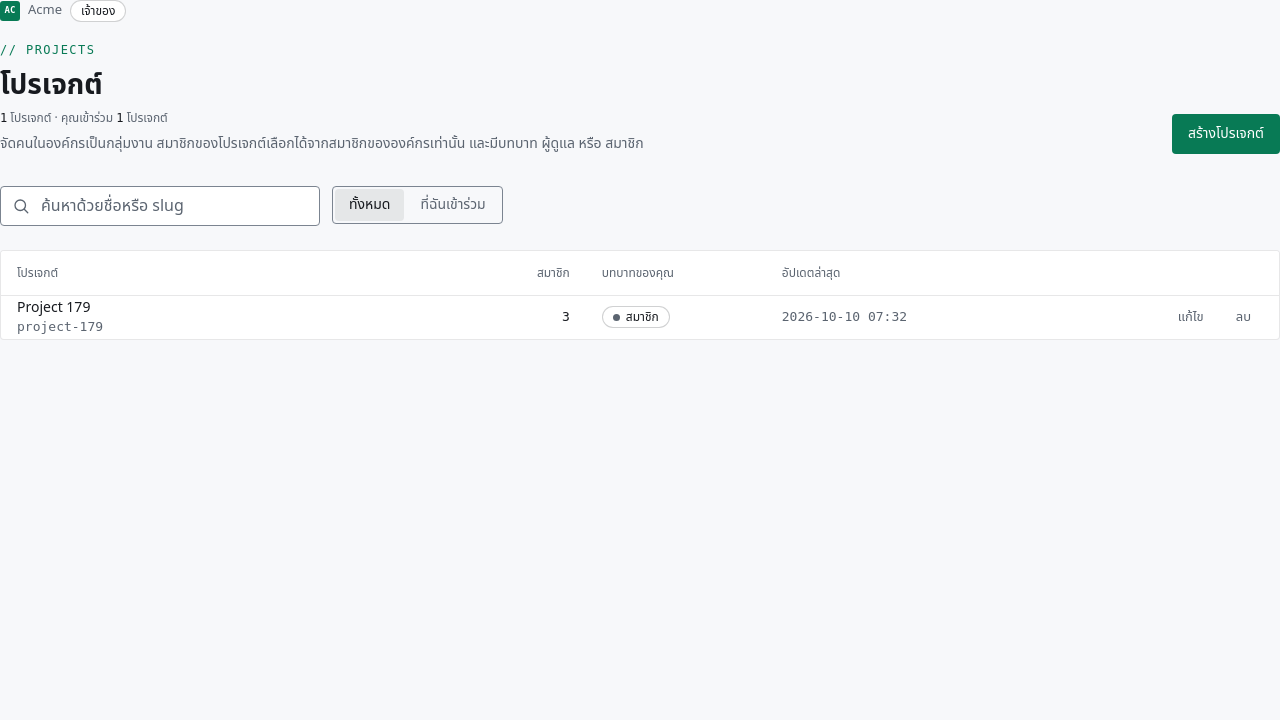
Test: create dialog › closes the dialog and reloads the list on PERMISSION_DENIED
The image size is (1280, 720).
Click the button with test id "projects-create" at (1226, 134), box x1=1172 y1=114 x2=1279 y2=154
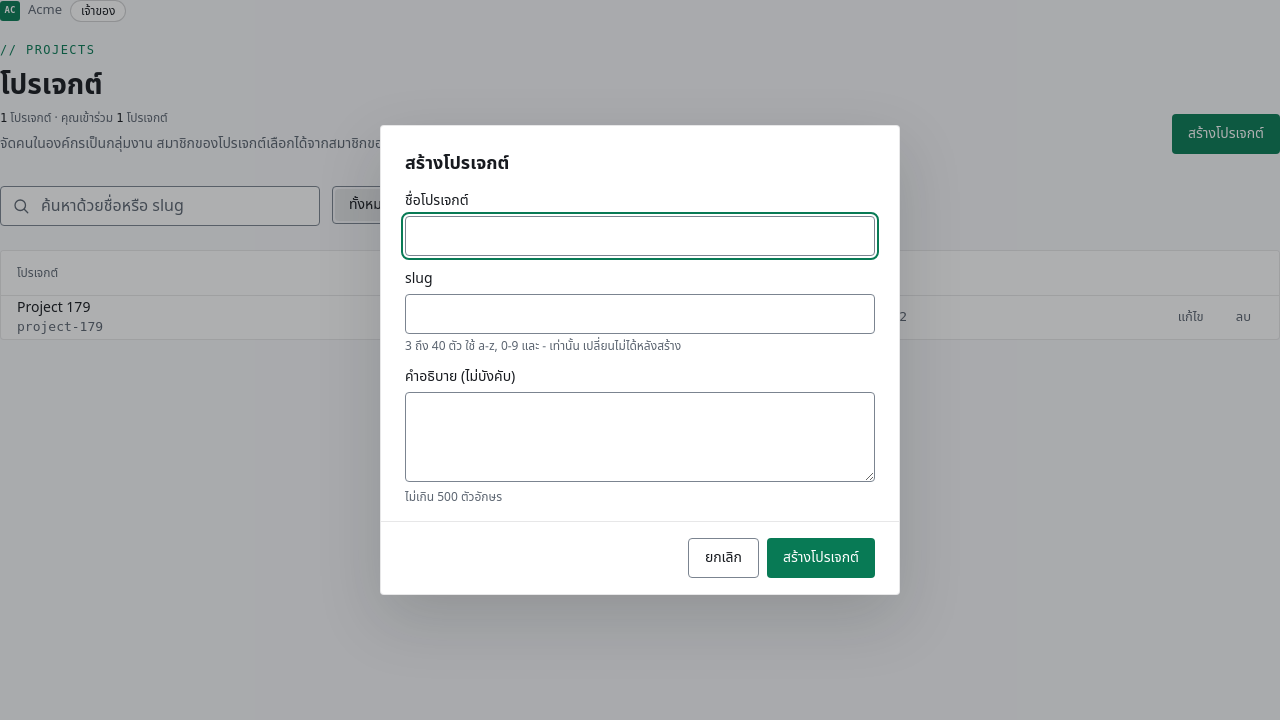
Type "Payments" into the field with test id "project-form-name" at (640, 236), box x1=405 y1=216 x2=875 y2=256
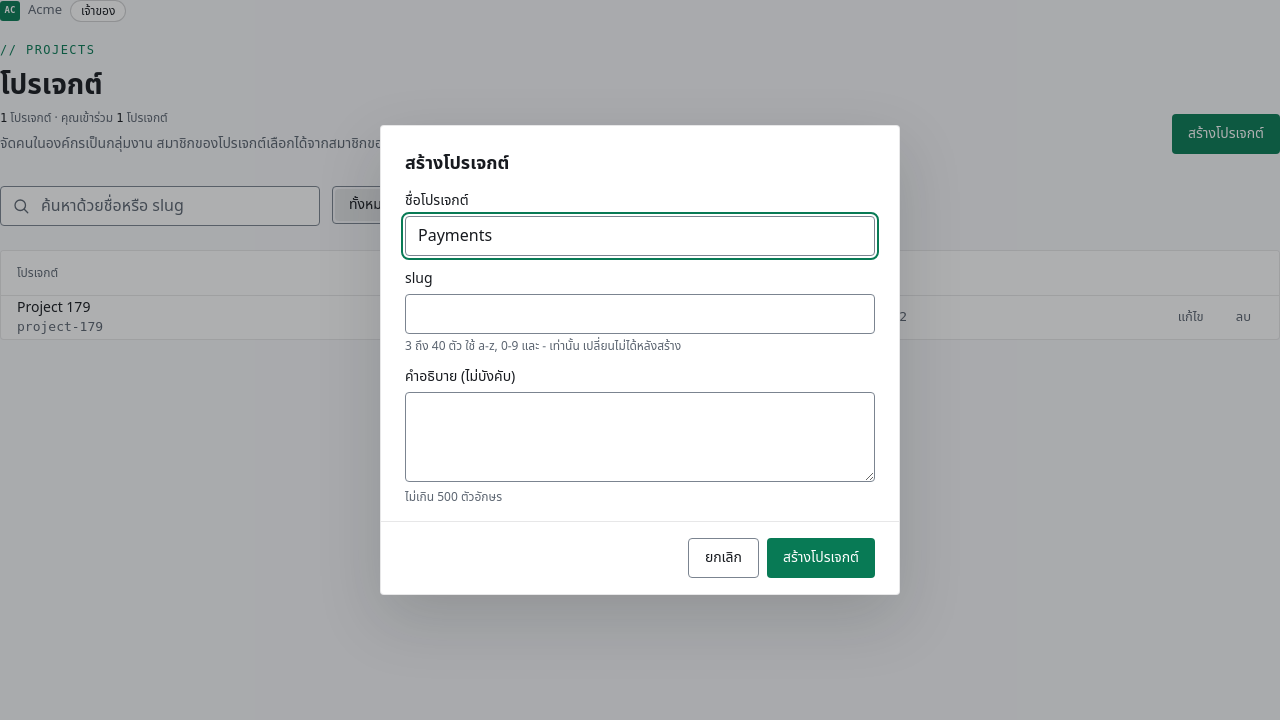
Type "payments" into the field with test id "project-form-slug" at (640, 314), box x1=405 y1=294 x2=875 y2=334
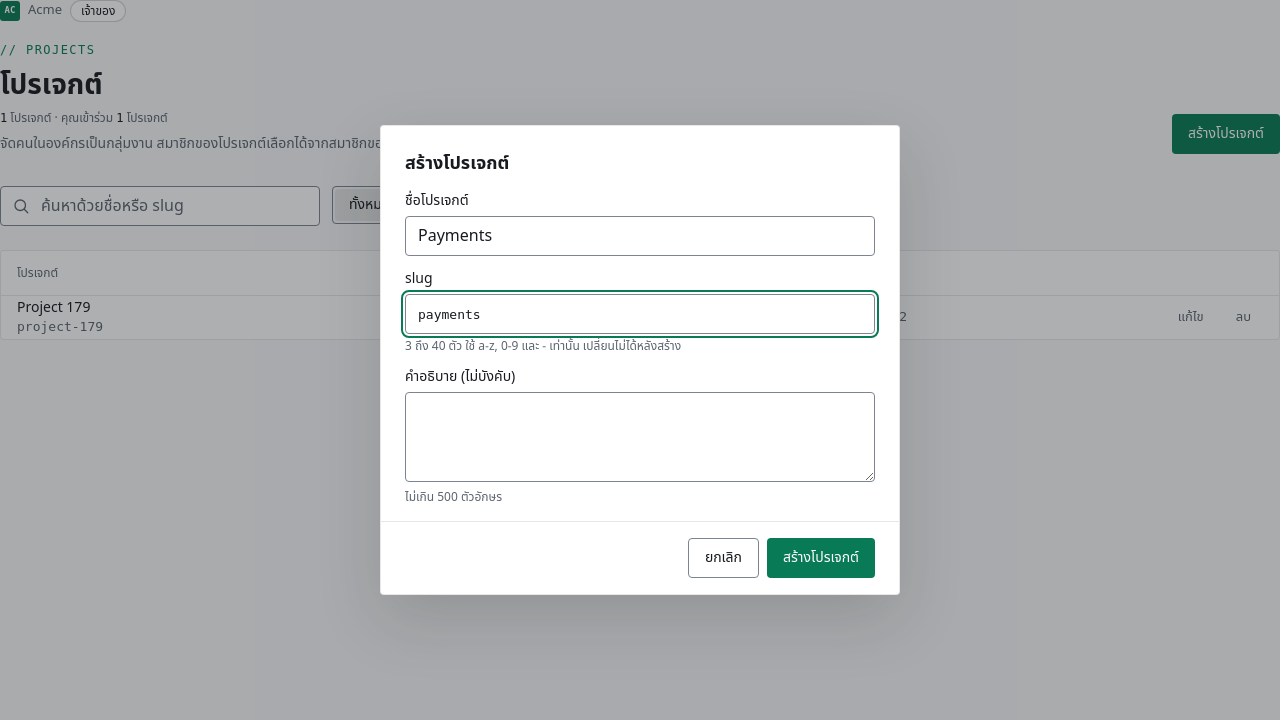
Click the button with test id "project-form-submit" at (821, 558), box x1=767 y1=538 x2=875 y2=578
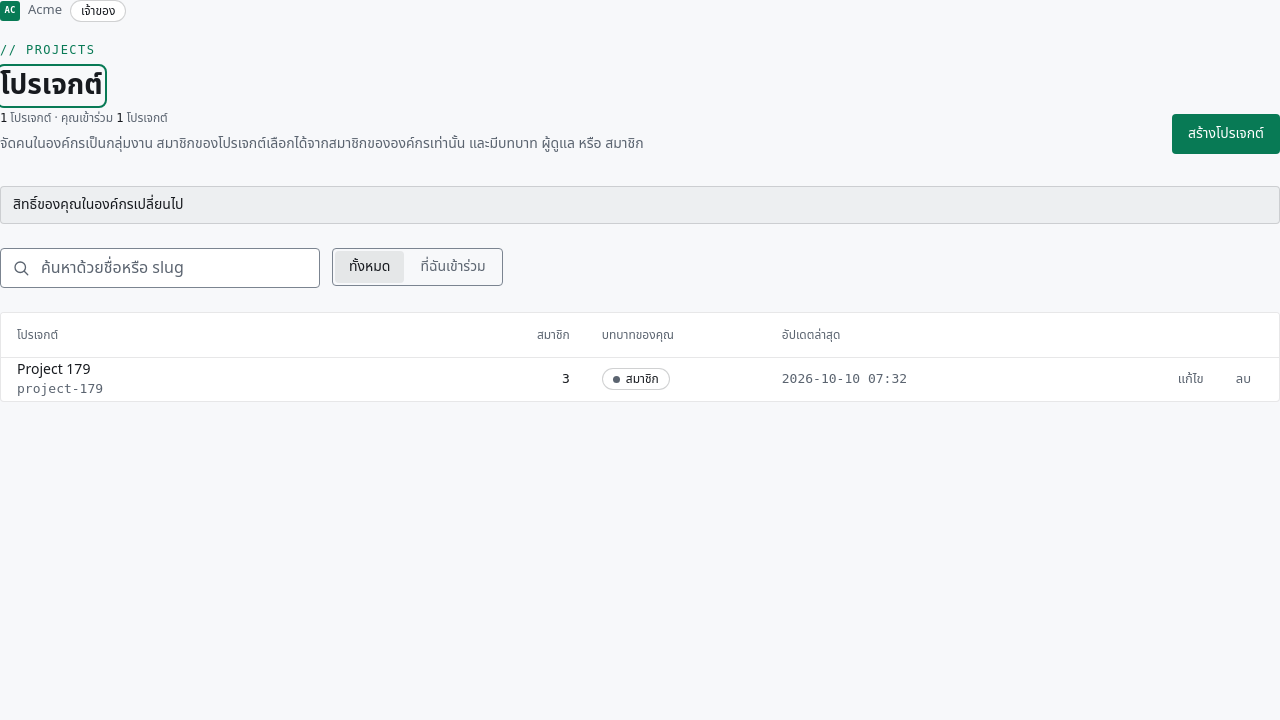
Expected: the dialog with test id "project-create-dialog" is gone
